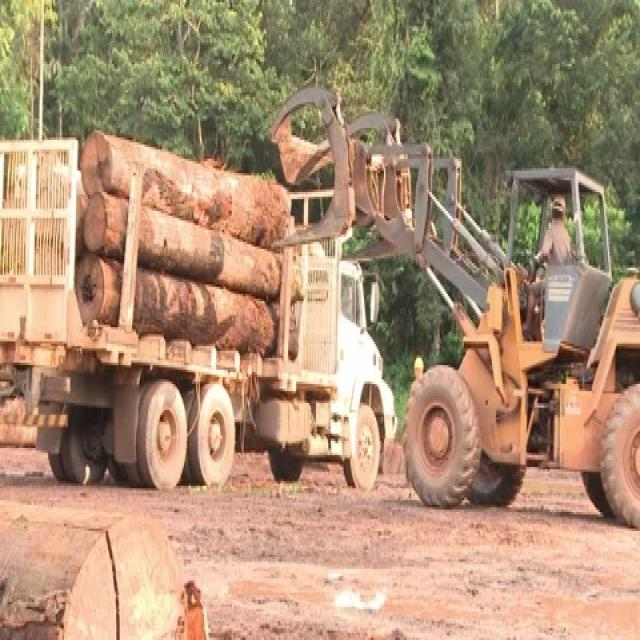Truck: (0, 126, 399, 495)
